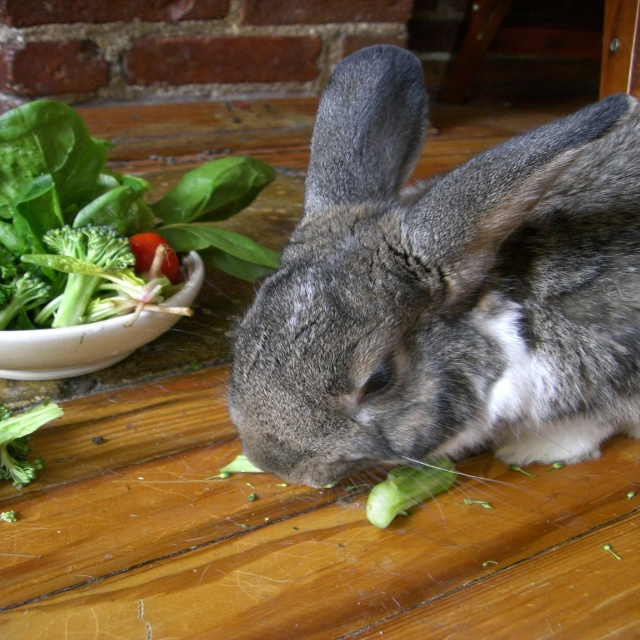Rabbit: (228, 43, 639, 488)
